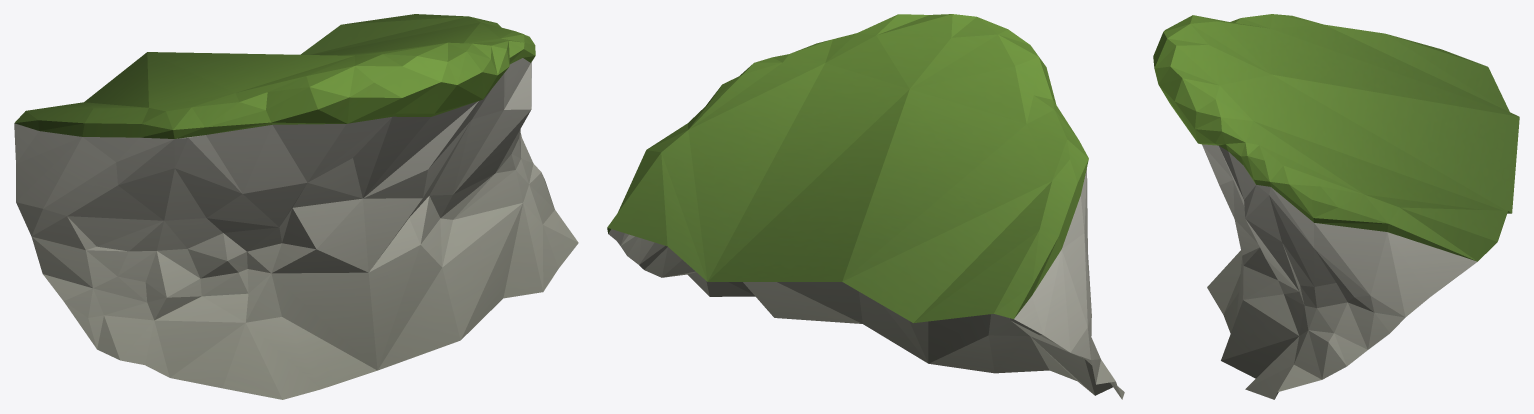
File: ZLP_Cliff_D_4.FBX
3 renders of one model, left to right at view 1: azimuth 30°, elevation 25°; view 2: azimuth 150°, elevation 25°; view 3: azimuth 270°, elevation 25°, orthographic. The views are drawn at different scales.
Parts seen in each view (by area): view 1: ZLP_Cliff_D_4; view 2: ZLP_Cliff_D_4; view 3: ZLP_Cliff_D_4.
Boxes of the visible parts, bbox=[...] form: ZLP_Cliff_D_4: bbox=[14, 14, 578, 399]; ZLP_Cliff_D_4: bbox=[607, 14, 1124, 399]; ZLP_Cliff_D_4: bbox=[1153, 14, 1519, 399].
Bounding box in the file's own units: 450 × 296 × 327.
